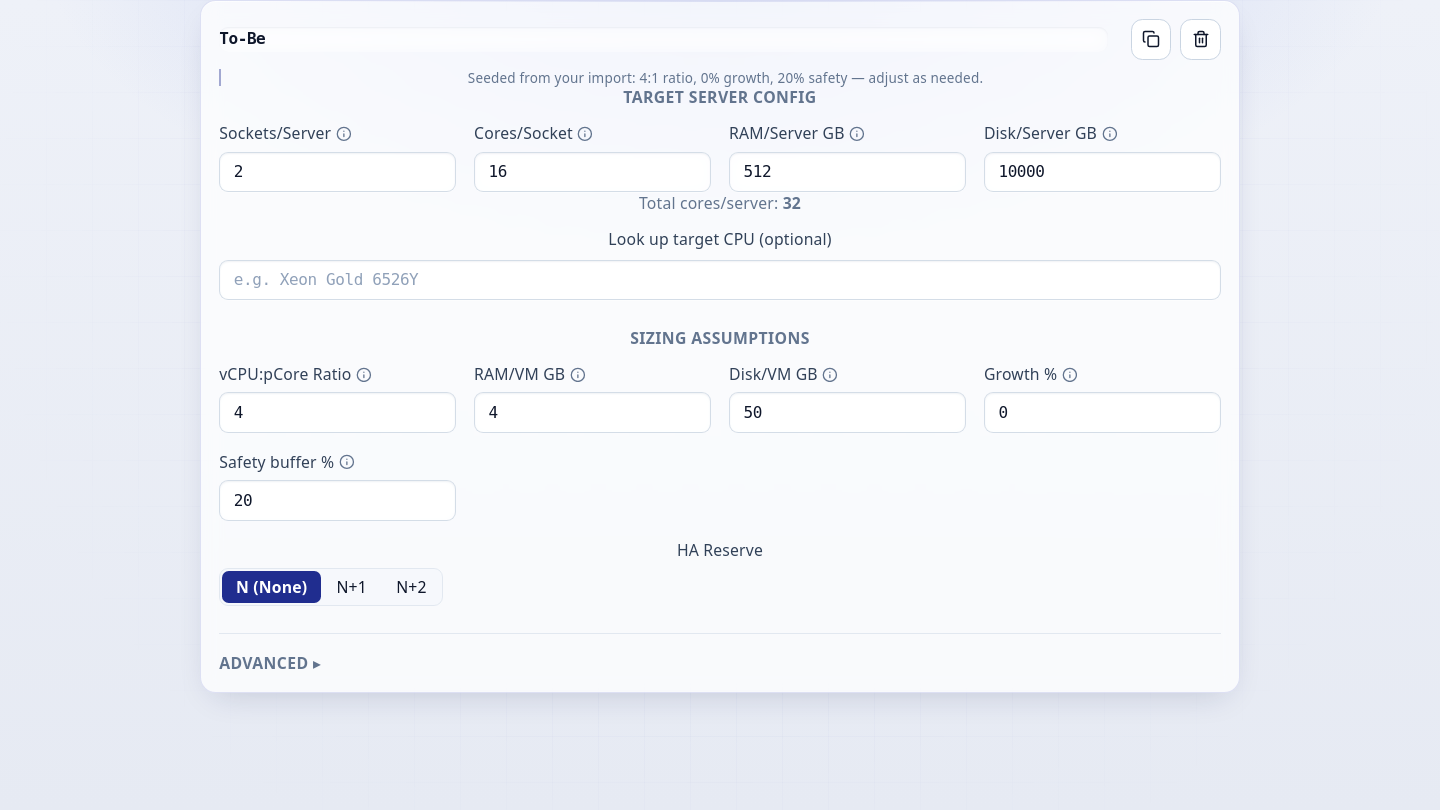
FORM-01: Advanced disclosure › clicking the toggle again hides the Advanced content
The image size is (1440, 810).
What coordinates should you click on to do the following:
click the button "Advanced ▸"
I would click on:
 (264, 663)
Its box is 219,652 -> 1221,674.
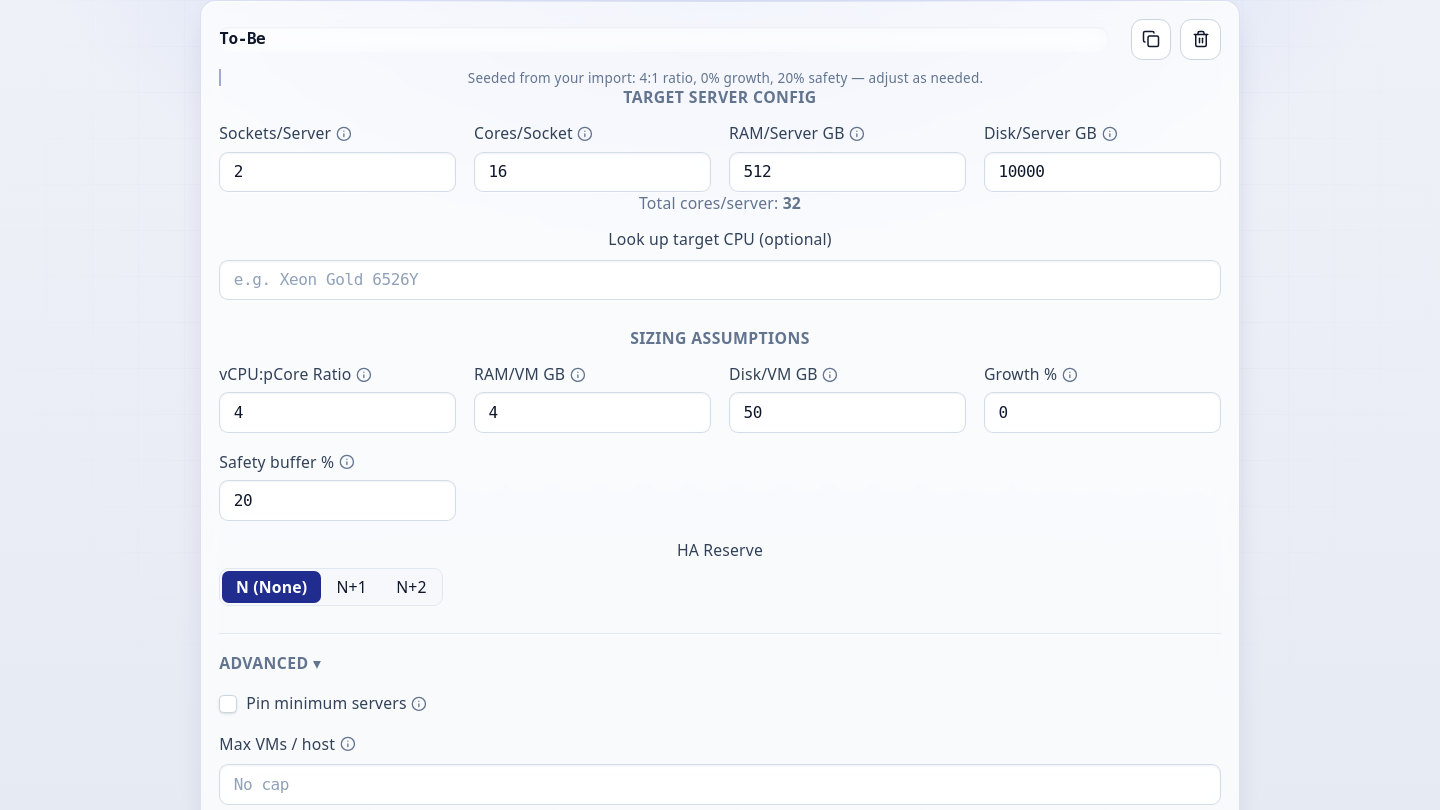
Now the button "Advanced ▾" is expanded
What coordinates should you click on to do the following:
click the button "Advanced ▾"
I would click on:
 (264, 663)
Its box is 219,652 -> 1221,674.
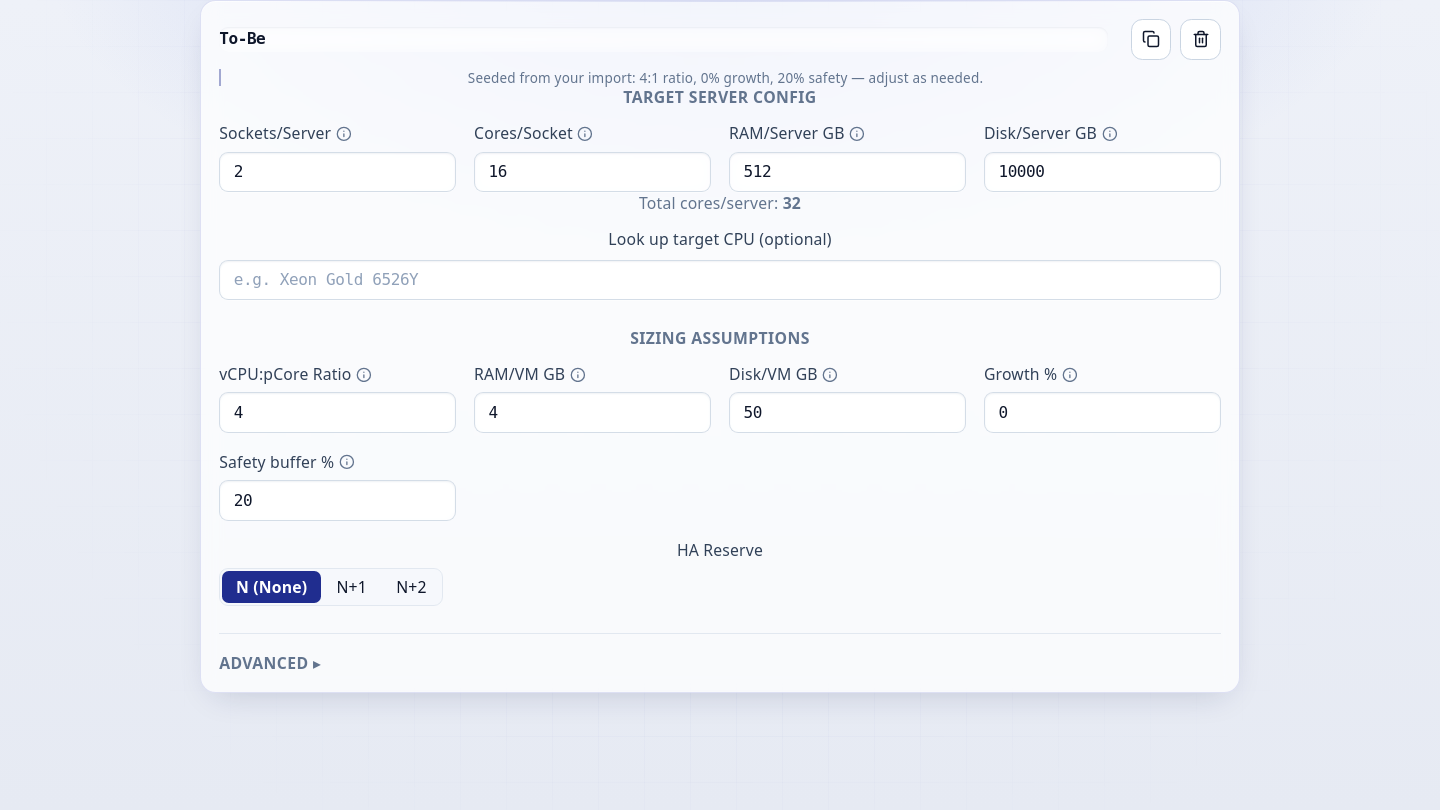
Now the button "Advanced ▸" is collapsed, box 219,652 -> 1221,674
